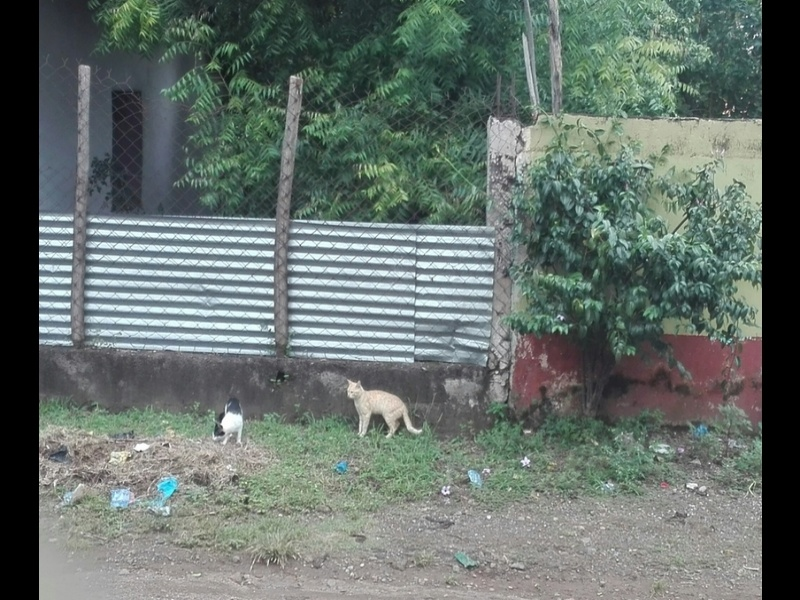cat: (343, 379, 425, 442), (207, 395, 250, 449)
